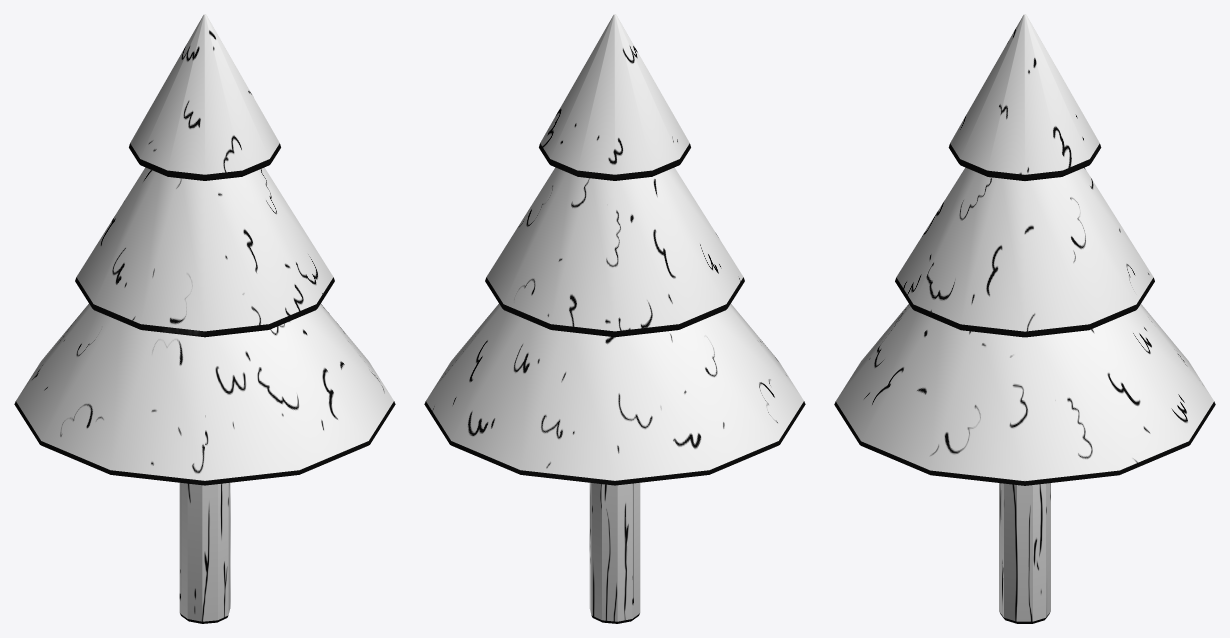
File: Tree.fbx
3 views of the same model, side by side, from view 1: azimuth 30°, elevation 25°; view 2: azimuth 150°, elevation 25°; view 3: azimuth 270°, elevation 25° (orthographic).
Visible parts, largest first — view 1: Tree; view 2: Tree; view 3: Tree.
Part boxes in pixels (x1=…): Tree: x1=14, y1=14, x2=395, y2=623; Tree: x1=424, y1=14, x2=805, y2=623; Tree: x1=834, y1=14, x2=1215, y2=623.
Size of the model in its own units: 8.86 by 15.39 by 8.86.
